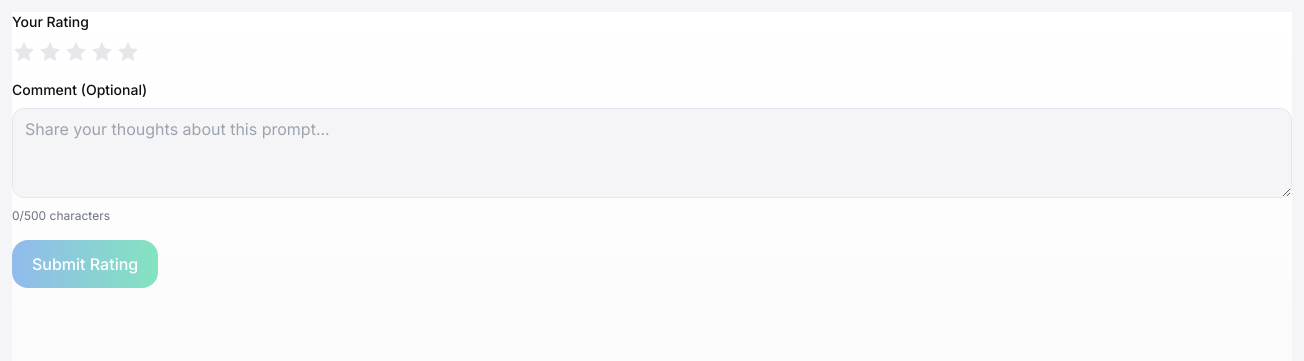
Test case: RatingSubmission Component › submits rating successfully
// Select rating
Click the button named "Rate 4 stars".
click(102, 52)  # box [90,40,114,64]
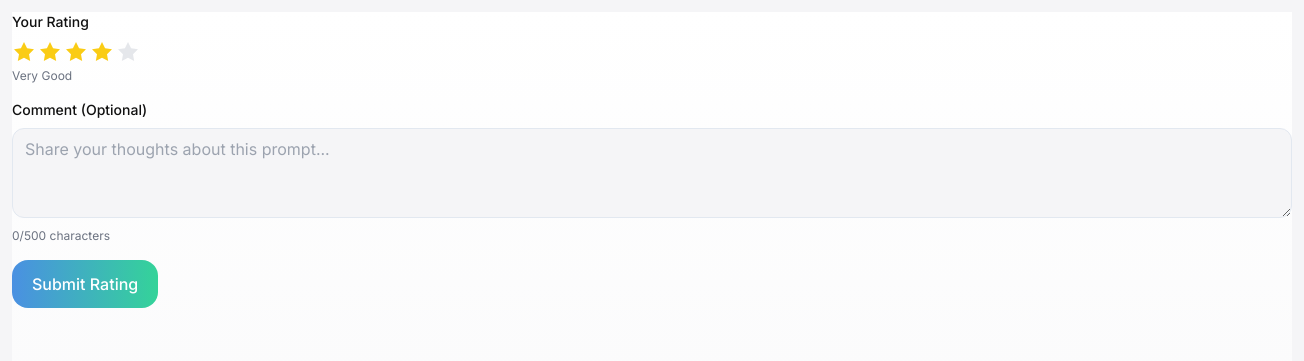
// Add comment
Type "Great prompt!" into the text box labelled "Comment (Optional)".
click(652, 173); type("Great prompt!")  # box [12,128,1292,218]
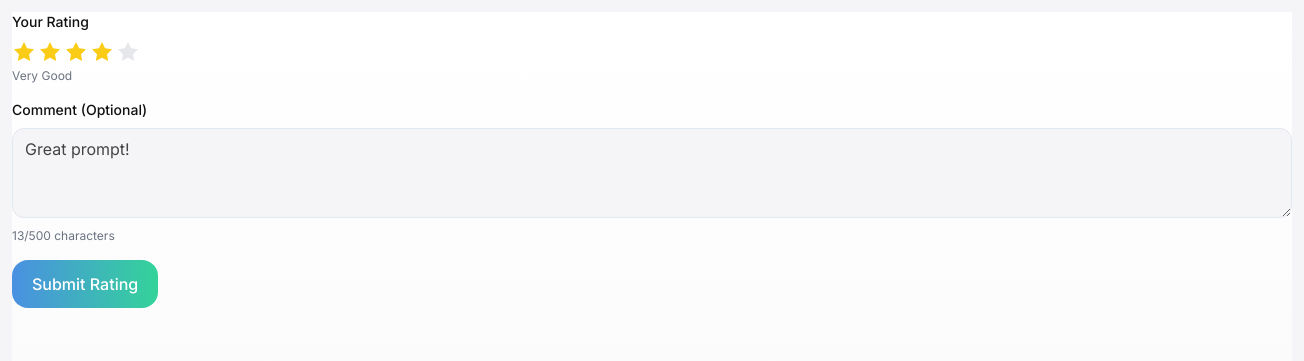
Click the button "Submit Rating".
click(85, 284)  # box [12,260,158,308]
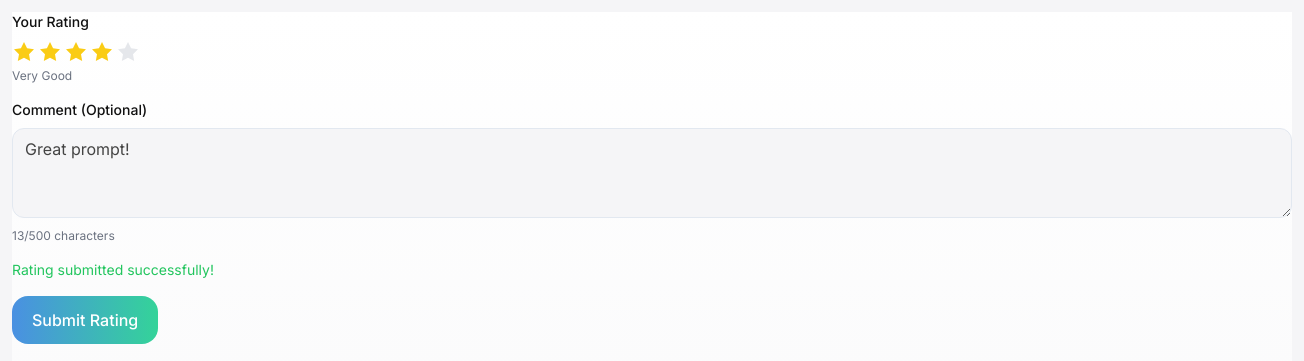
Expected: the text "Rating submitted successfully!" is shown, [12,261,214,278]
